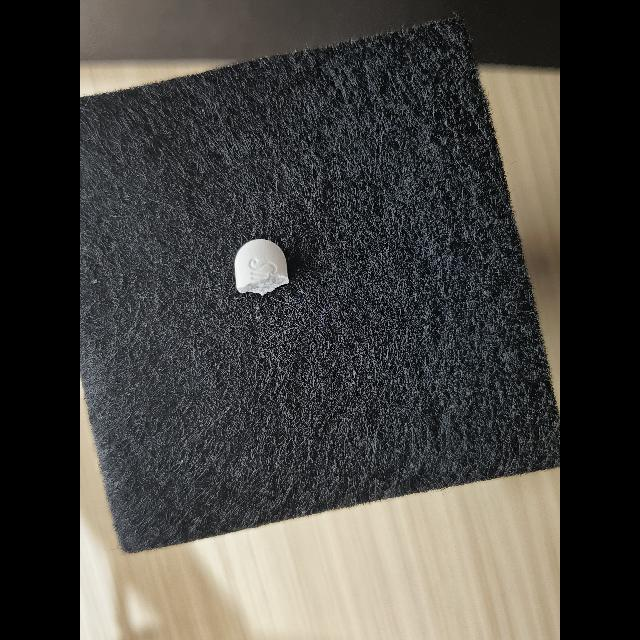Chipped Pill: (234, 239, 289, 296)
